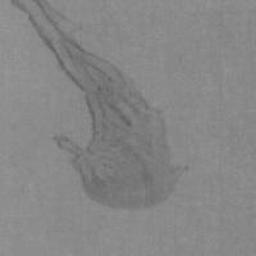Water spot: (6, 0, 191, 211)
